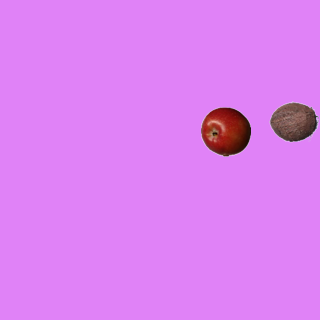Apple Braeburn: (200, 106, 250, 156)
Cocos: (268, 96, 318, 146)
